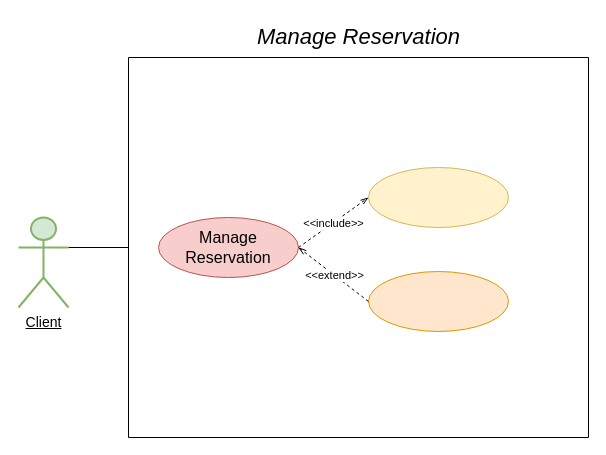
The diagram is 606 pixels wide and 455 high, and some of its shapes have lost their labels. Here are the shapes that lost their labels. From the top down, the centre of each, then its label:
pixel 438 197: View My Reservations
pixel 438 301: Update Request
